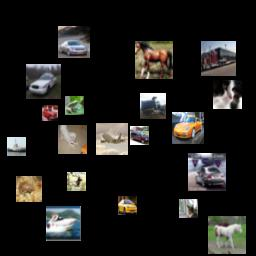airplane: (96, 123, 128, 155)
automobile: (188, 153, 226, 191), (26, 64, 61, 99), (58, 26, 90, 58), (172, 112, 204, 144), (118, 196, 137, 215), (130, 126, 149, 145), (42, 105, 58, 121)
cat: (213, 80, 242, 109), (179, 199, 198, 218)
deer: (67, 172, 86, 191)
dog: (58, 125, 87, 154)
frog: (16, 176, 42, 202), (65, 96, 84, 115)
ship: (46, 206, 81, 241), (7, 137, 26, 156)
truck: (201, 41, 236, 76), (140, 93, 166, 119)
